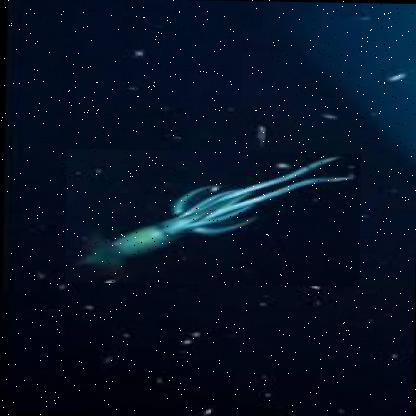colossal_squid: (63, 148, 360, 286)
